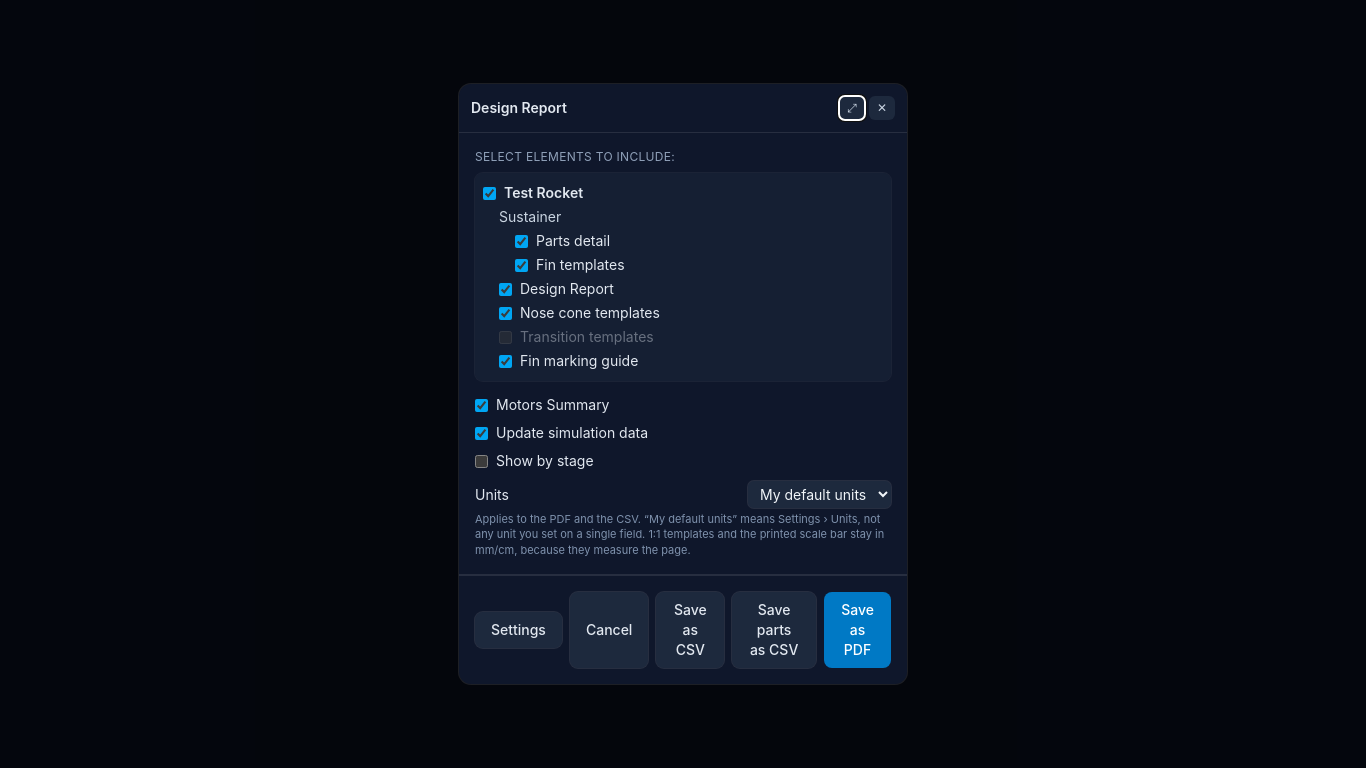
ExportDialog cancel › Close stops the run and writes no PDF
What coordinates should you click on to do the following:
click the button "Save as PDF"
I would click on:
 (858, 630)
Its box is [824,592,891,668].
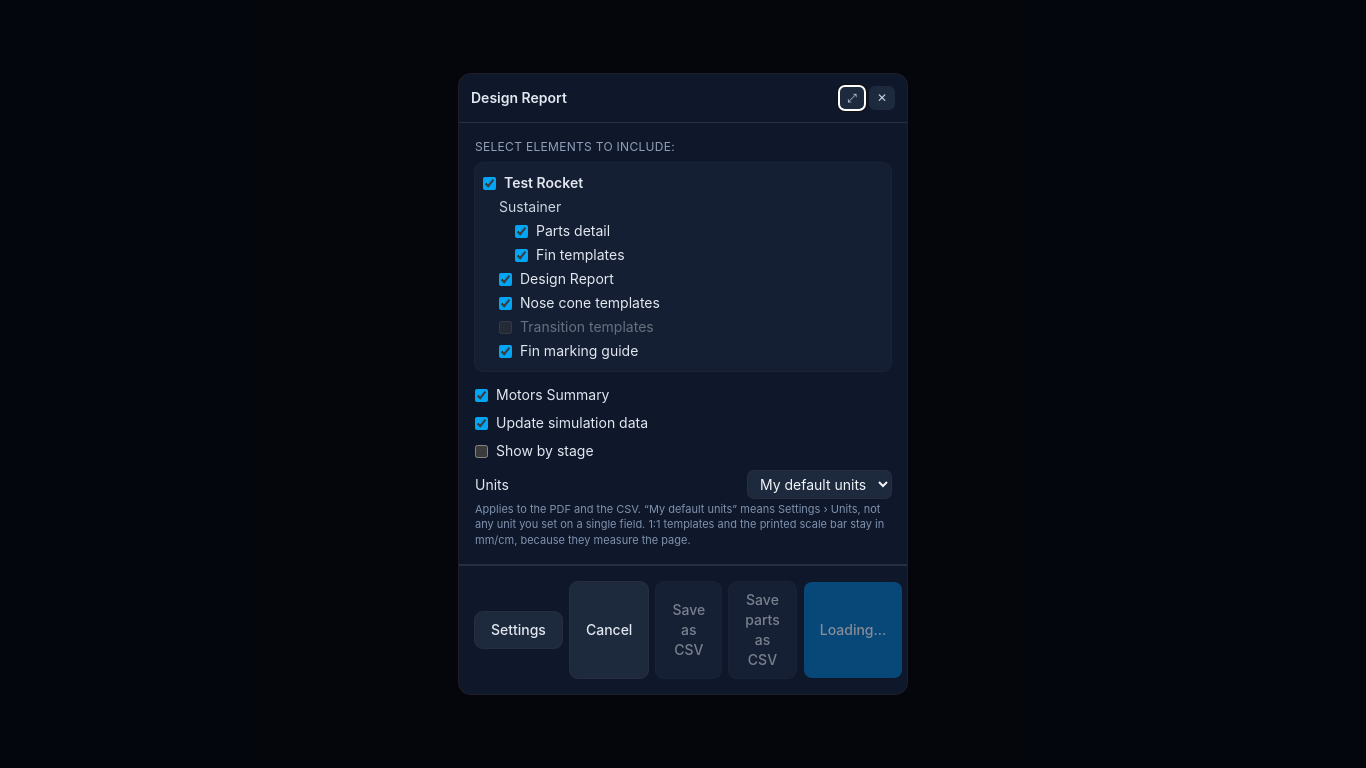
expect the button "Loading…" is shown: met, box [804,582,902,678]
What coordinates should you click on to do the following:
click the button named "Close"
I would click on:
 (882, 98)
Its box is [869,86,895,110].
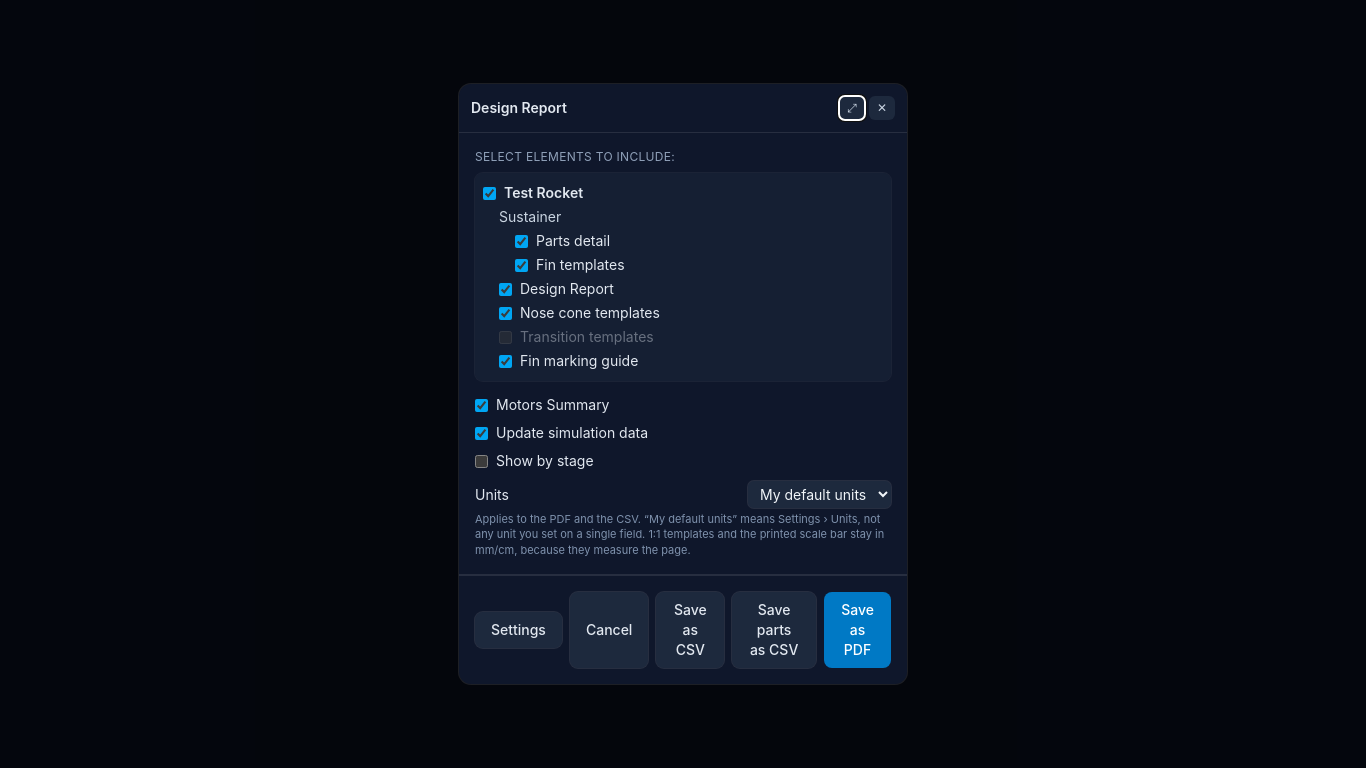
expect the button "Save as PDF" is shown: met, box [824,592,891,668]
